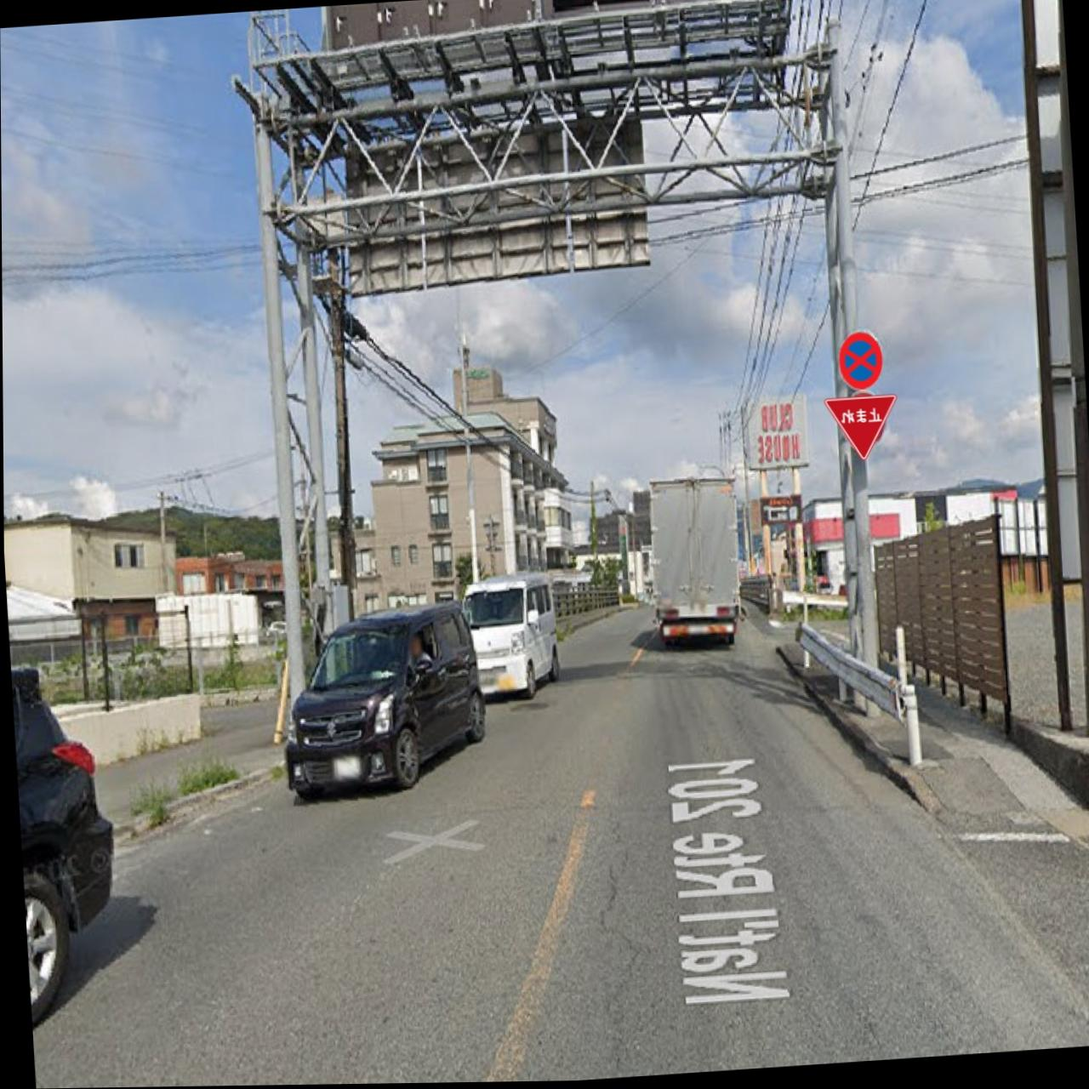stop_sign: (391, 170, 1089, 630), (829, 329, 885, 388)
